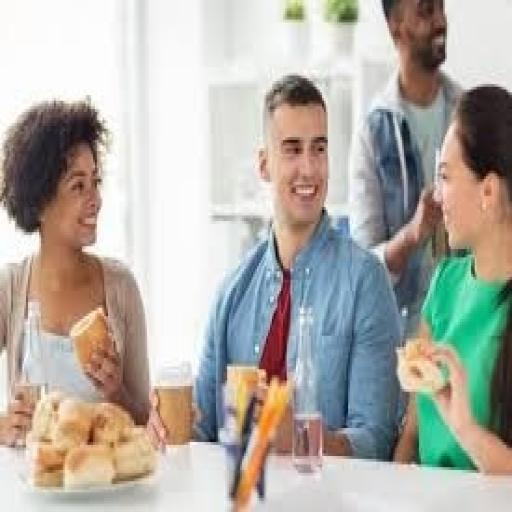eating: (192, 70, 406, 459), (0, 95, 155, 448), (393, 81, 510, 476), (346, 0, 469, 333)
